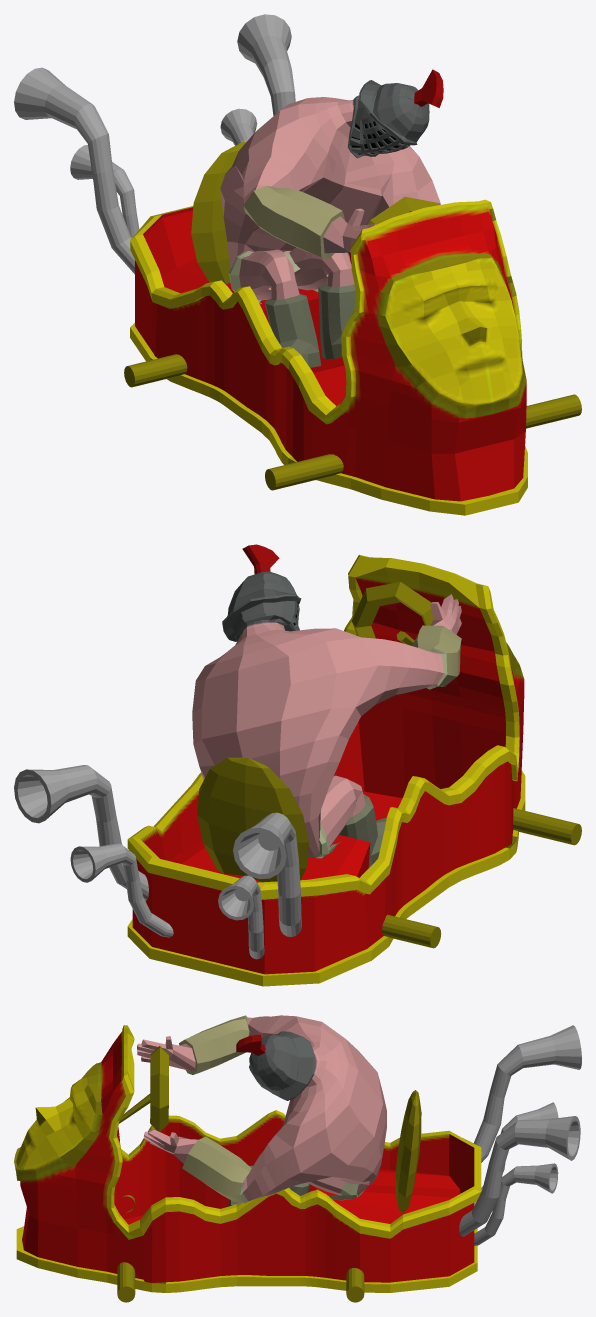
File: GladiGiroIzq_000550.obj
3 views of the same model, one above another, from view 1: azimuth 30°, elevation 25°; view 2: azimuth 150°, elevation 25°; view 3: azimuth 270°, elevation 25° (orthographic). The views are drawn at different scales.
Visible parts, largest first — view 1: GladiChasis_GladiChasisH, Gadiador_Gladiador_H, GladiTubos_GladiTubosH, GladiVolante_GladiVolanteH; view 2: GladiChasis_GladiChasisH, Gadiador_Gladiador_H, GladiTubos_GladiTubosH, GladiVolante_GladiVolanteH; view 3: GladiChasis_GladiChasisH, Gadiador_Gladiador_H, GladiTubos_GladiTubosH, GladiVolante_GladiVolanteH.
Part boxes in pixels (x1,y1,x2,y2): GladiChasis_GladiChasisH: (130, 199, 527, 515); Gadiador_Gladiador_H: (220, 69, 443, 367); GladiTubos_GladiTubosH: (14, 14, 295, 274); GladiVolante_GladiVolanteH: (124, 142, 581, 490); GladiChasis_GladiChasisH: (127, 554, 525, 986); Gadiador_Gladiador_H: (192, 544, 461, 867); GladiTubos_GladiTubosH: (14, 765, 301, 959); GladiVolante_GladiVolanteH: (197, 582, 581, 948); GladiChasis_GladiChasisH: (14, 1025, 481, 1292); Gadiador_Gladiador_H: (137, 1015, 386, 1206); GladiTubos_GladiTubosH: (459, 1025, 581, 1245); GladiVolante_GladiVolanteH: (117, 1046, 421, 1302).
Size of the model in its own units: 5.46 by 5.24 by 10.78.
4 materials, 4 textured.
